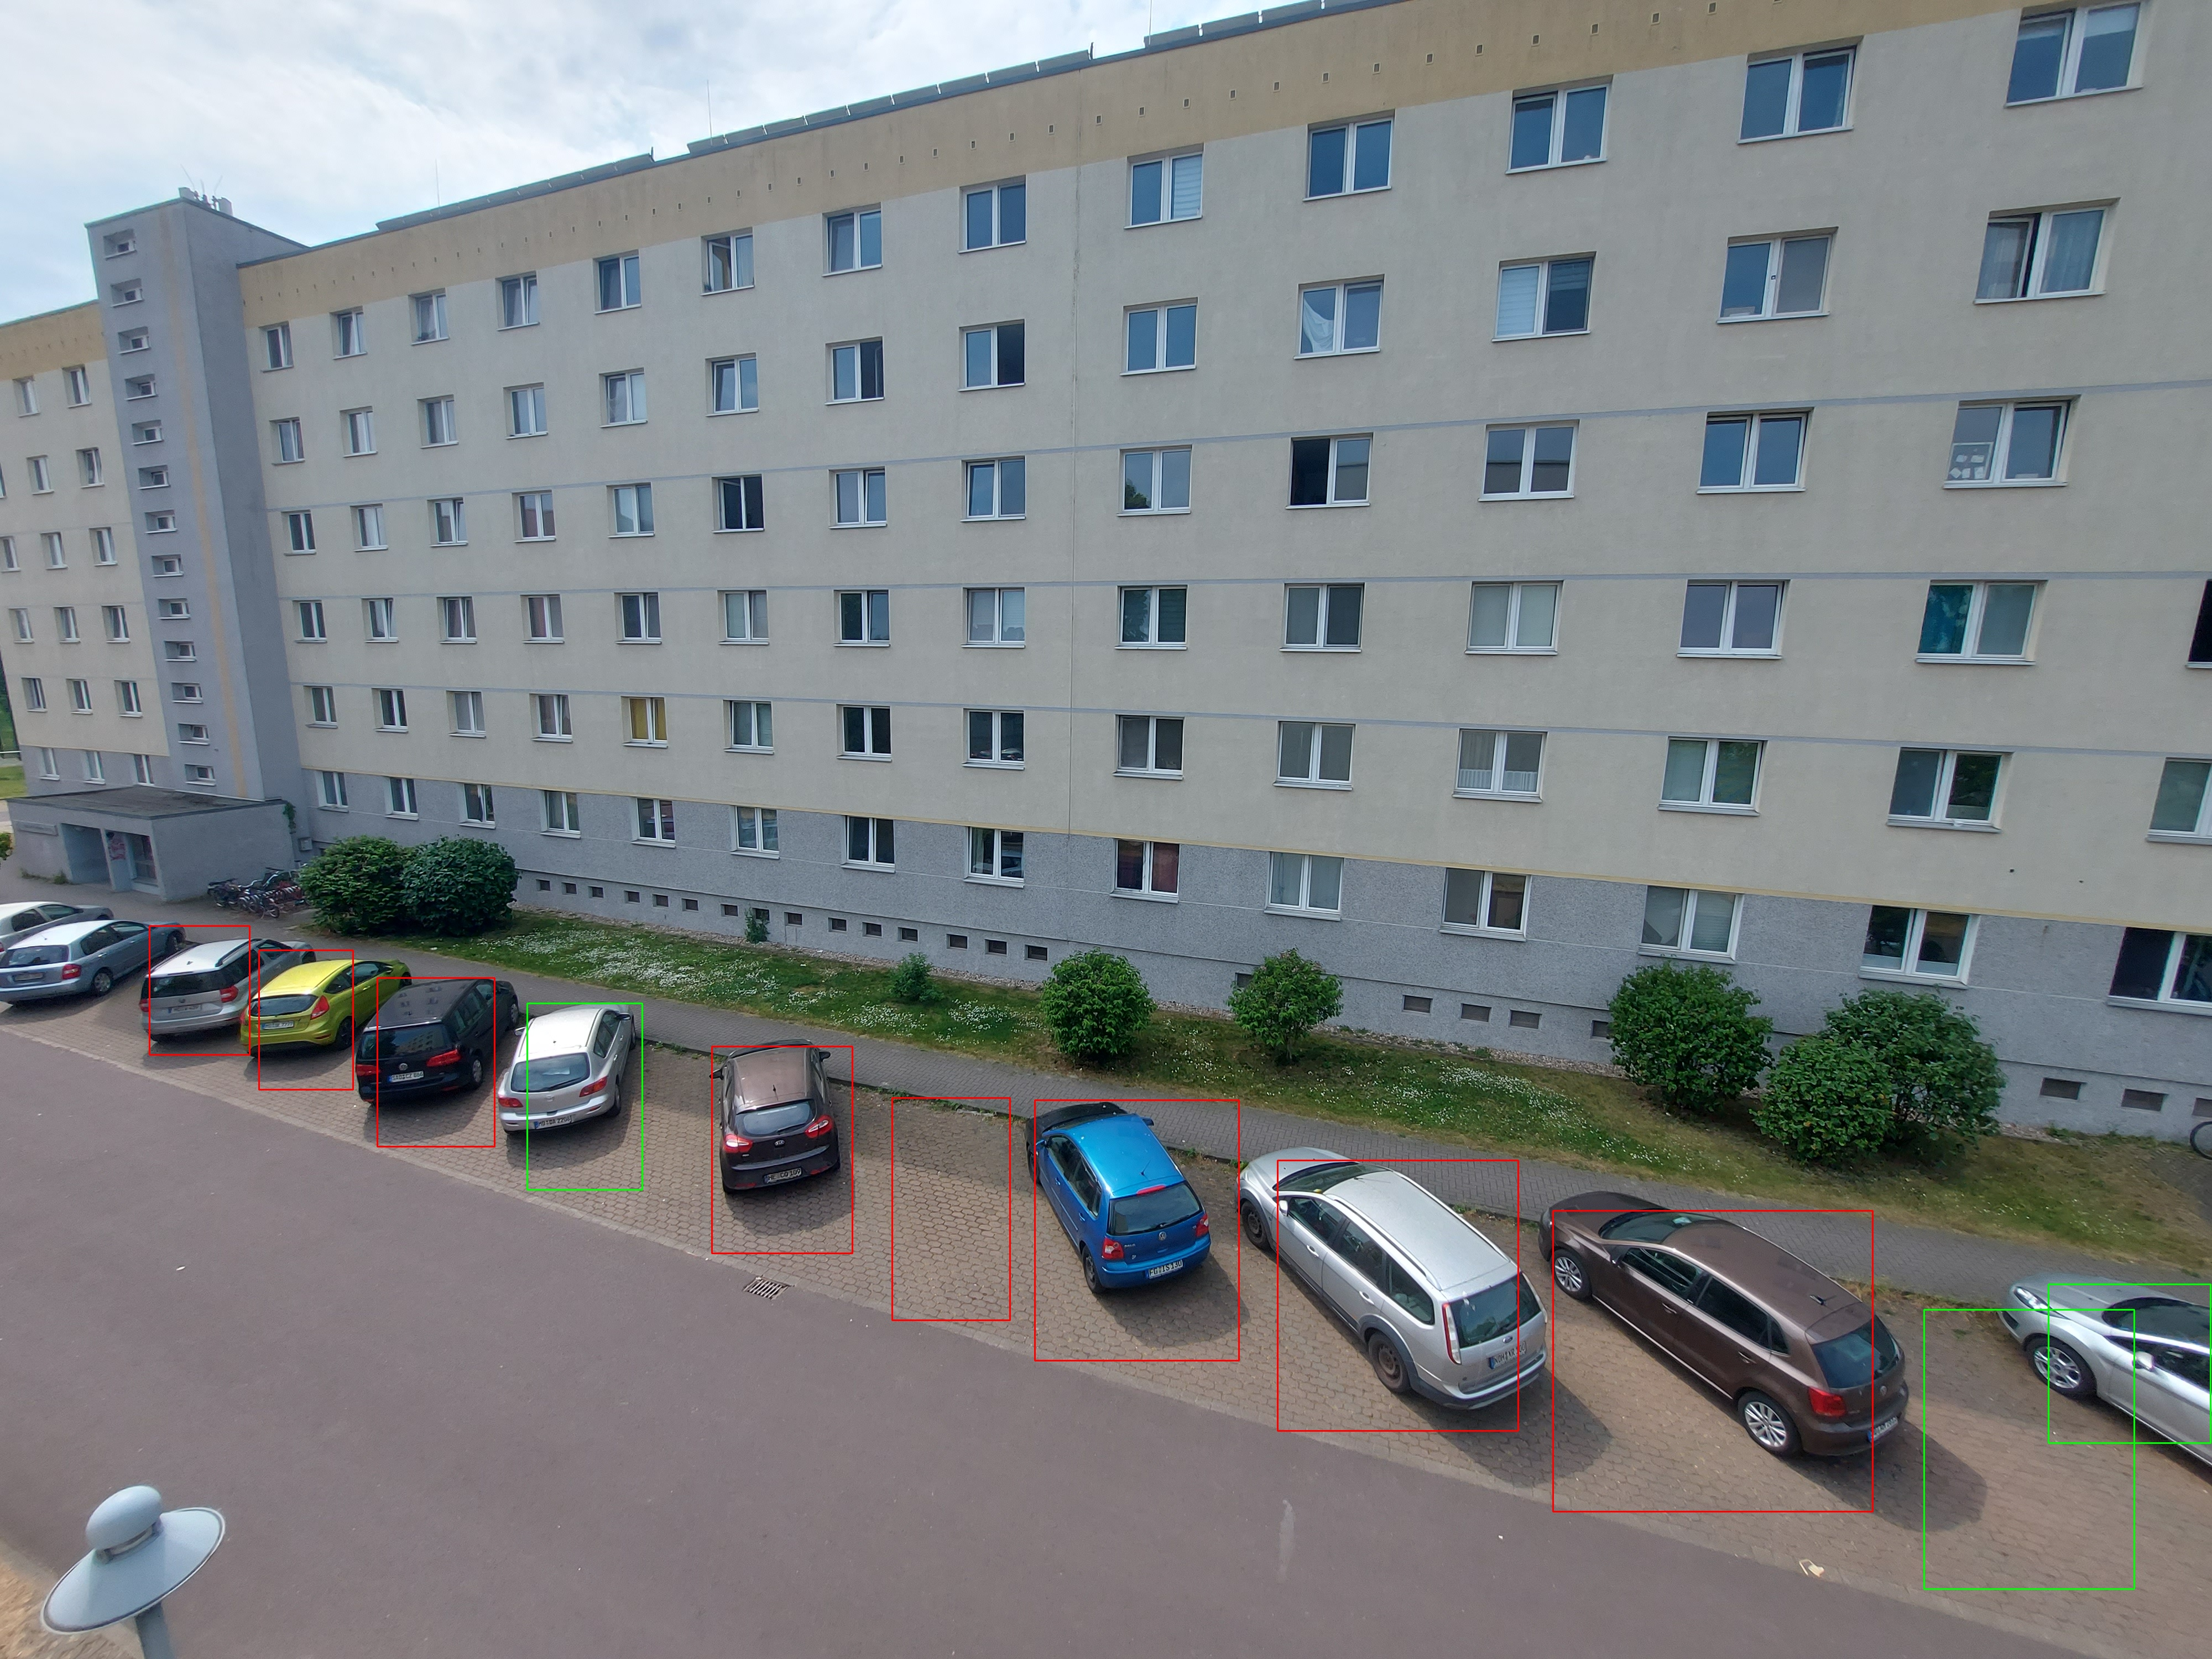spot: (1554, 1211, 1872, 1511), (1277, 1161, 1519, 1431), (1925, 1309, 2134, 1589), (1035, 1100, 1238, 1361), (712, 1046, 852, 1253), (892, 1098, 1010, 1319), (2048, 1284, 2210, 1443), (528, 1004, 643, 1190), (378, 978, 495, 1147), (260, 950, 354, 1089), (150, 925, 249, 1054)
